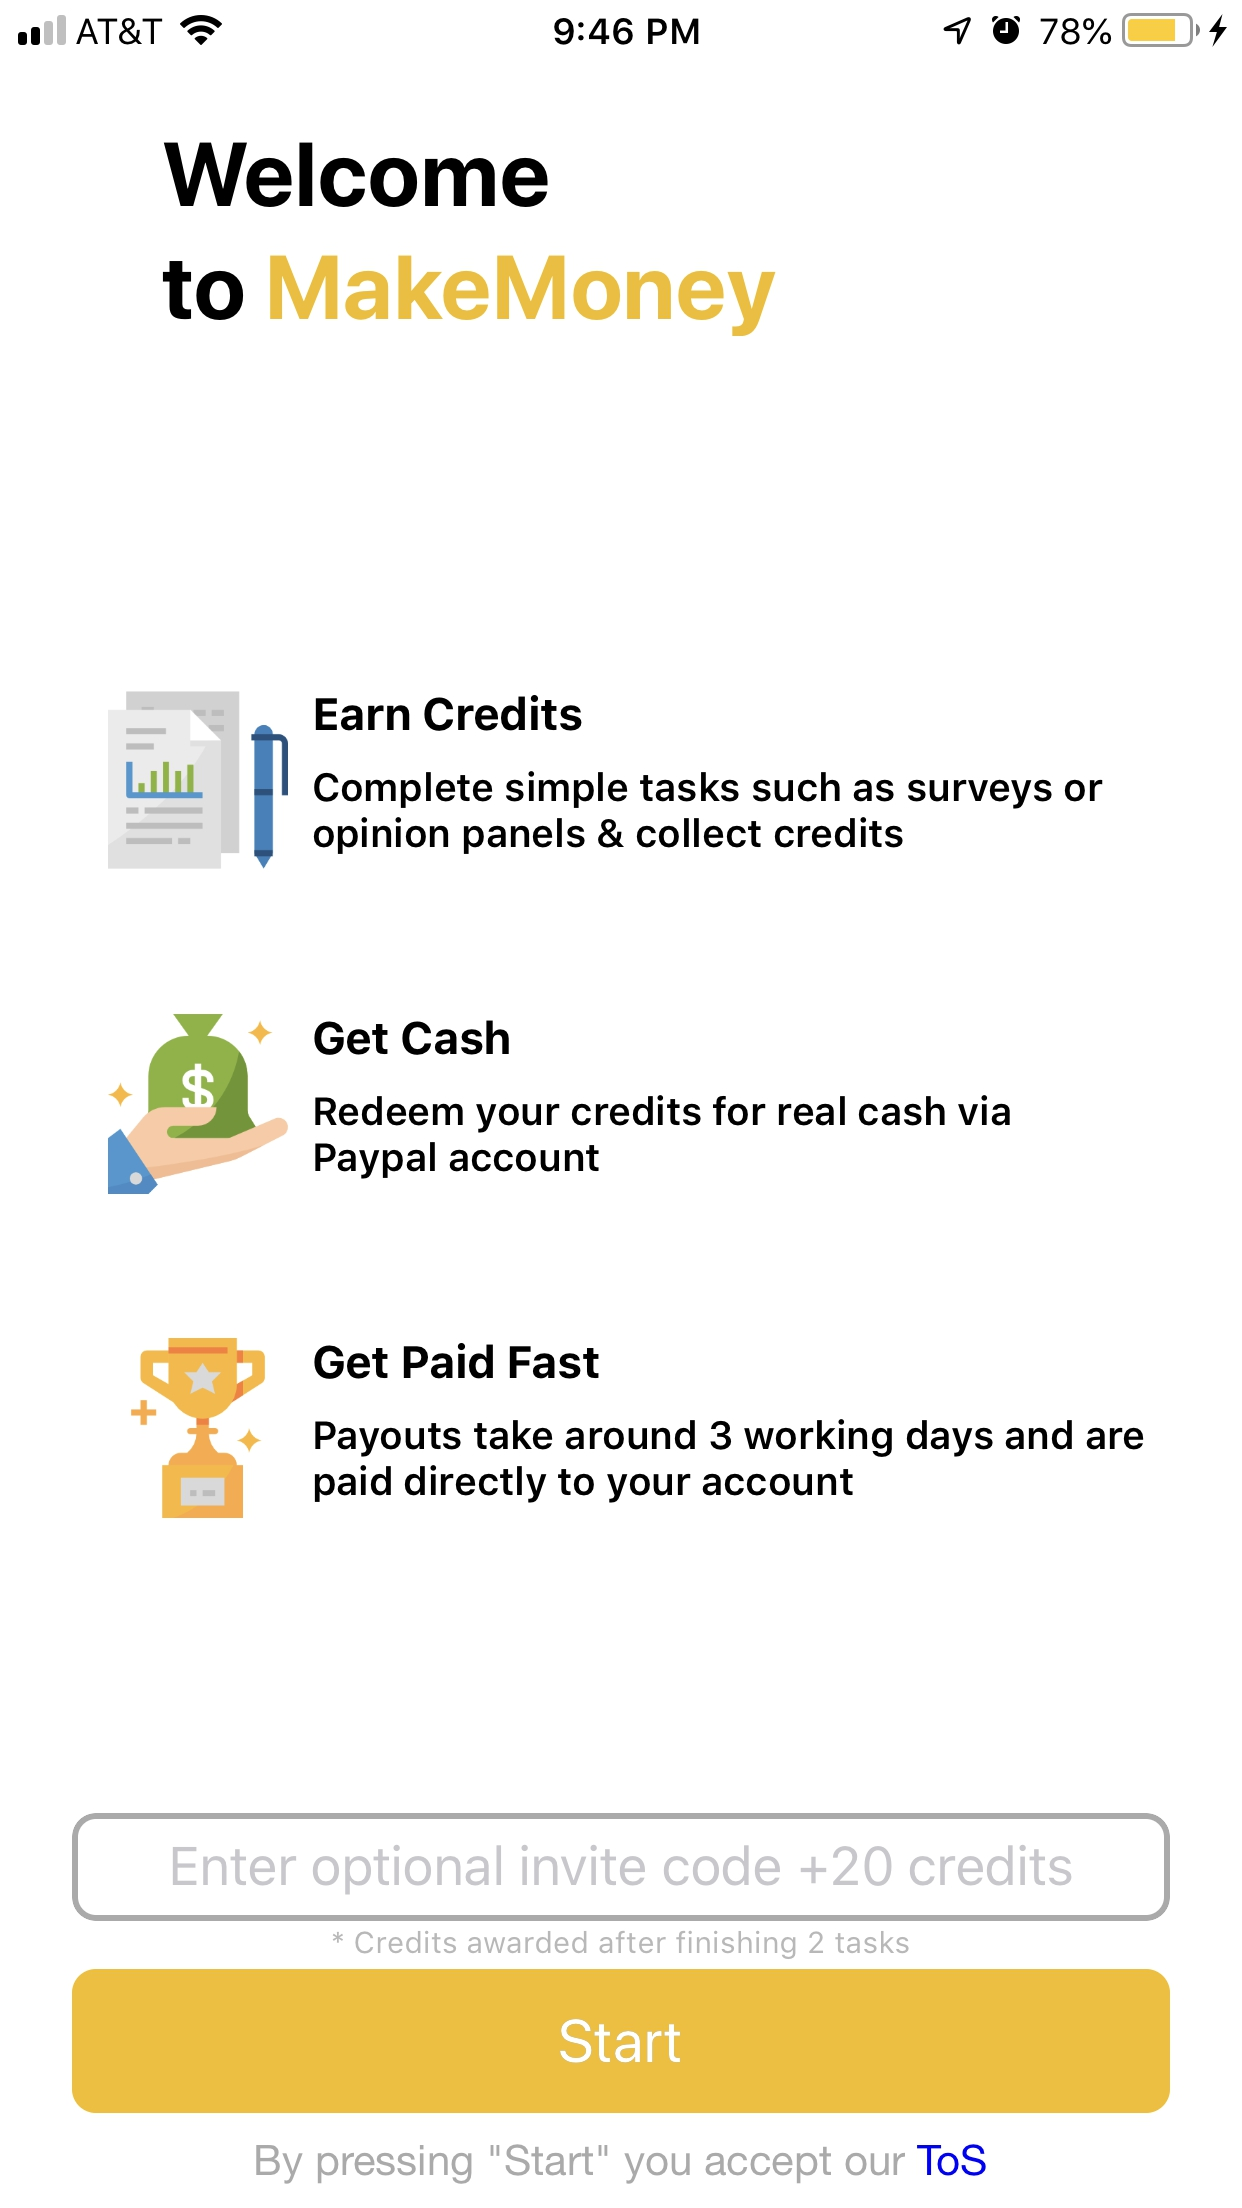EditText: (71, 1814, 1171, 1921)
Image: (108, 1015, 290, 1197), (108, 690, 291, 870), (130, 1338, 267, 1520)
Text: (162, 141, 776, 338), (314, 1418, 1143, 1504), (314, 770, 1104, 855), (314, 1093, 1011, 1180), (173, 1844, 1074, 1896), (256, 2143, 987, 2185), (334, 1929, 910, 1959), (312, 1342, 601, 1380), (315, 695, 582, 732), (314, 1019, 511, 1055)
TextButton: (73, 1968, 1171, 2114)
UpperTaskBar: (2, 2, 1242, 49)
